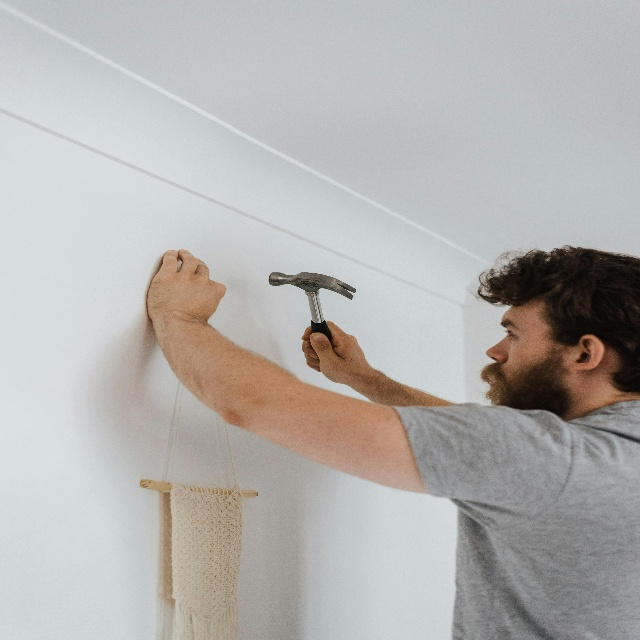Sin_guantes: (146, 239, 226, 326), (301, 317, 360, 387)
